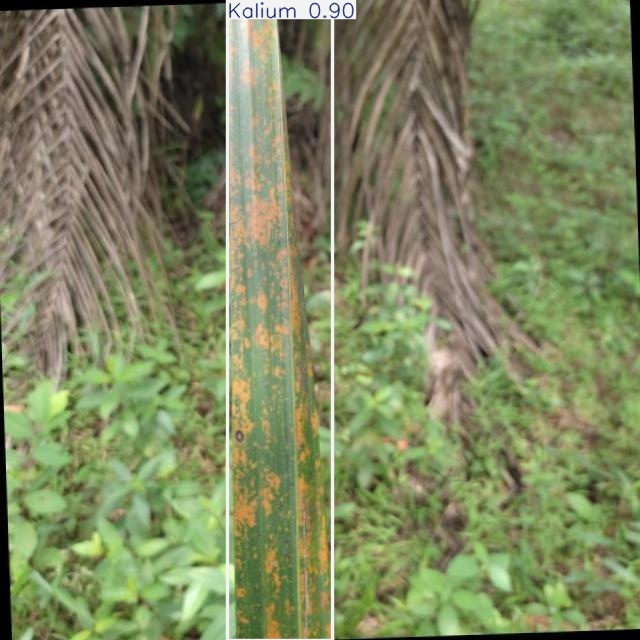Kalium: (228, 0, 332, 640)
